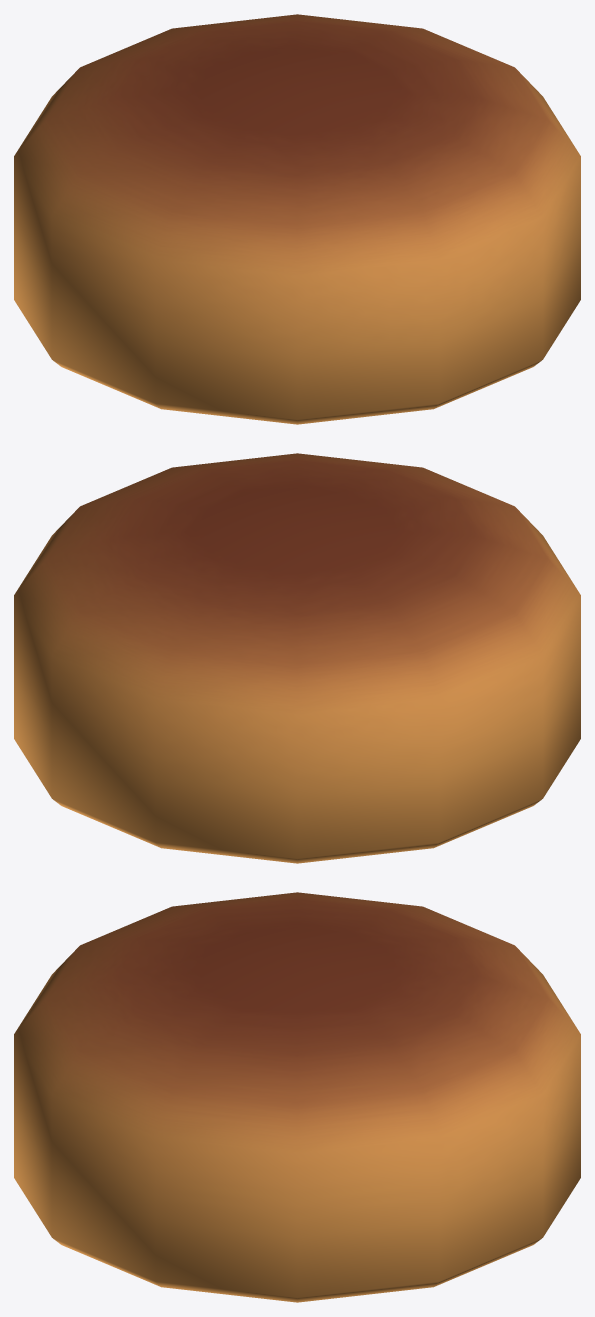
File: m_JapaneseCheesecake02.fbx
3 renders of one model, top to bottom at view 1: azimuth 30°, elevation 25°; view 2: azimuth 150°, elevation 25°; view 3: azimuth 270°, elevation 25°, orthographic.
Parts seen in each view (by area): view 1: m_JapaneseCheesecake02; view 2: m_JapaneseCheesecake02; view 3: m_JapaneseCheesecake02.
Part boxes in pixels (left/top/right/bottom): m_JapaneseCheesecake02: left=14, top=14, right=580, bottom=424; m_JapaneseCheesecake02: left=14, top=453, right=580, bottom=863; m_JapaneseCheesecake02: left=14, top=892, right=580, bottom=1302.
Size of the model in its own units: 28 by 12.26 by 28.
